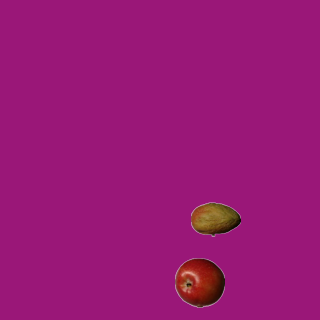Apple Braeburn: (174, 257, 224, 307)
Papaya: (190, 194, 240, 244)
